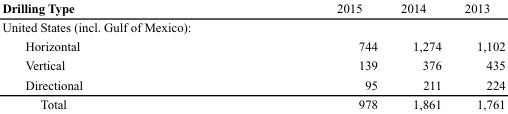table: (1, 0, 504, 110)
table column: (1, 0, 209, 110), (209, 0, 388, 110), (388, 0, 452, 110), (452, 0, 504, 110)
table column header: (1, 0, 504, 17)
table projected row header: (1, 17, 504, 36)
table row: (1, 55, 504, 75), (1, 17, 504, 36), (1, 36, 504, 55), (1, 75, 504, 94), (1, 0, 504, 17), (1, 94, 504, 110)
